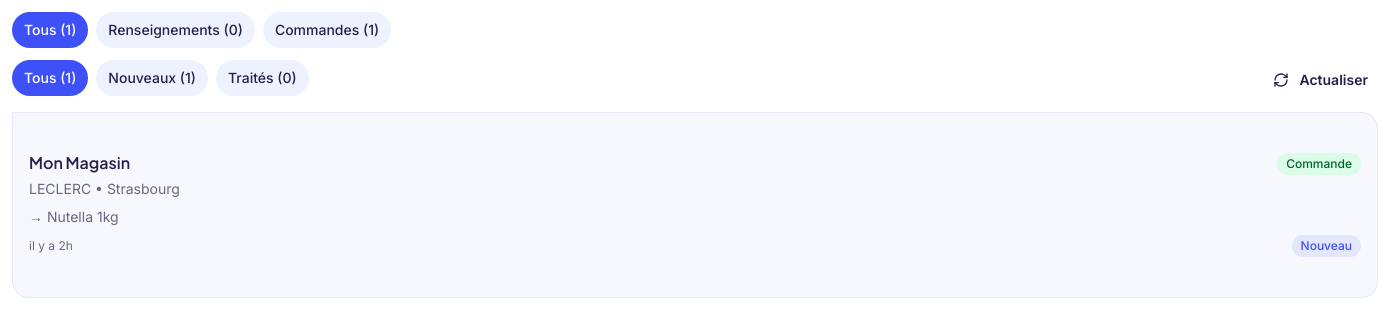
SupplierRequestList › shows reset filters button in empty state
The image size is (1390, 315).
Click the radio button "Renseignements (0)" at (176, 30), box [96, 12, 255, 48]
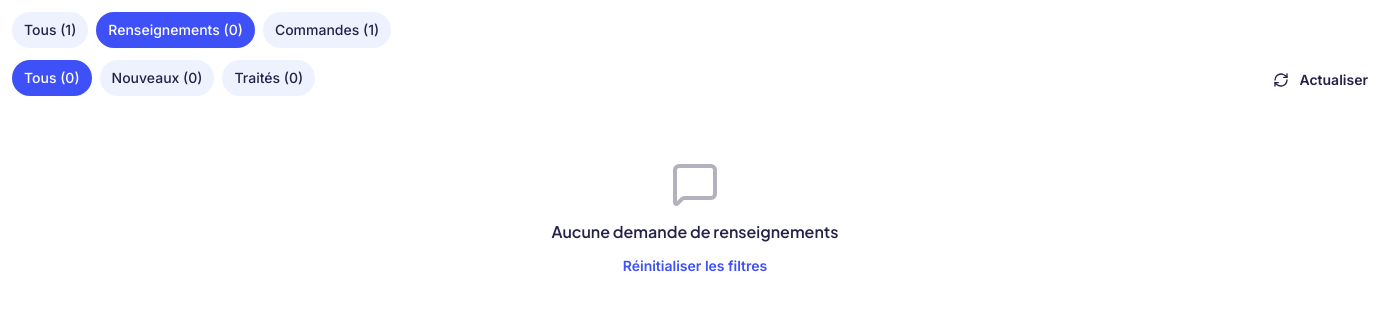
Result: the button "Réinitialiser les filtres" is shown at [607, 248, 783, 284]
